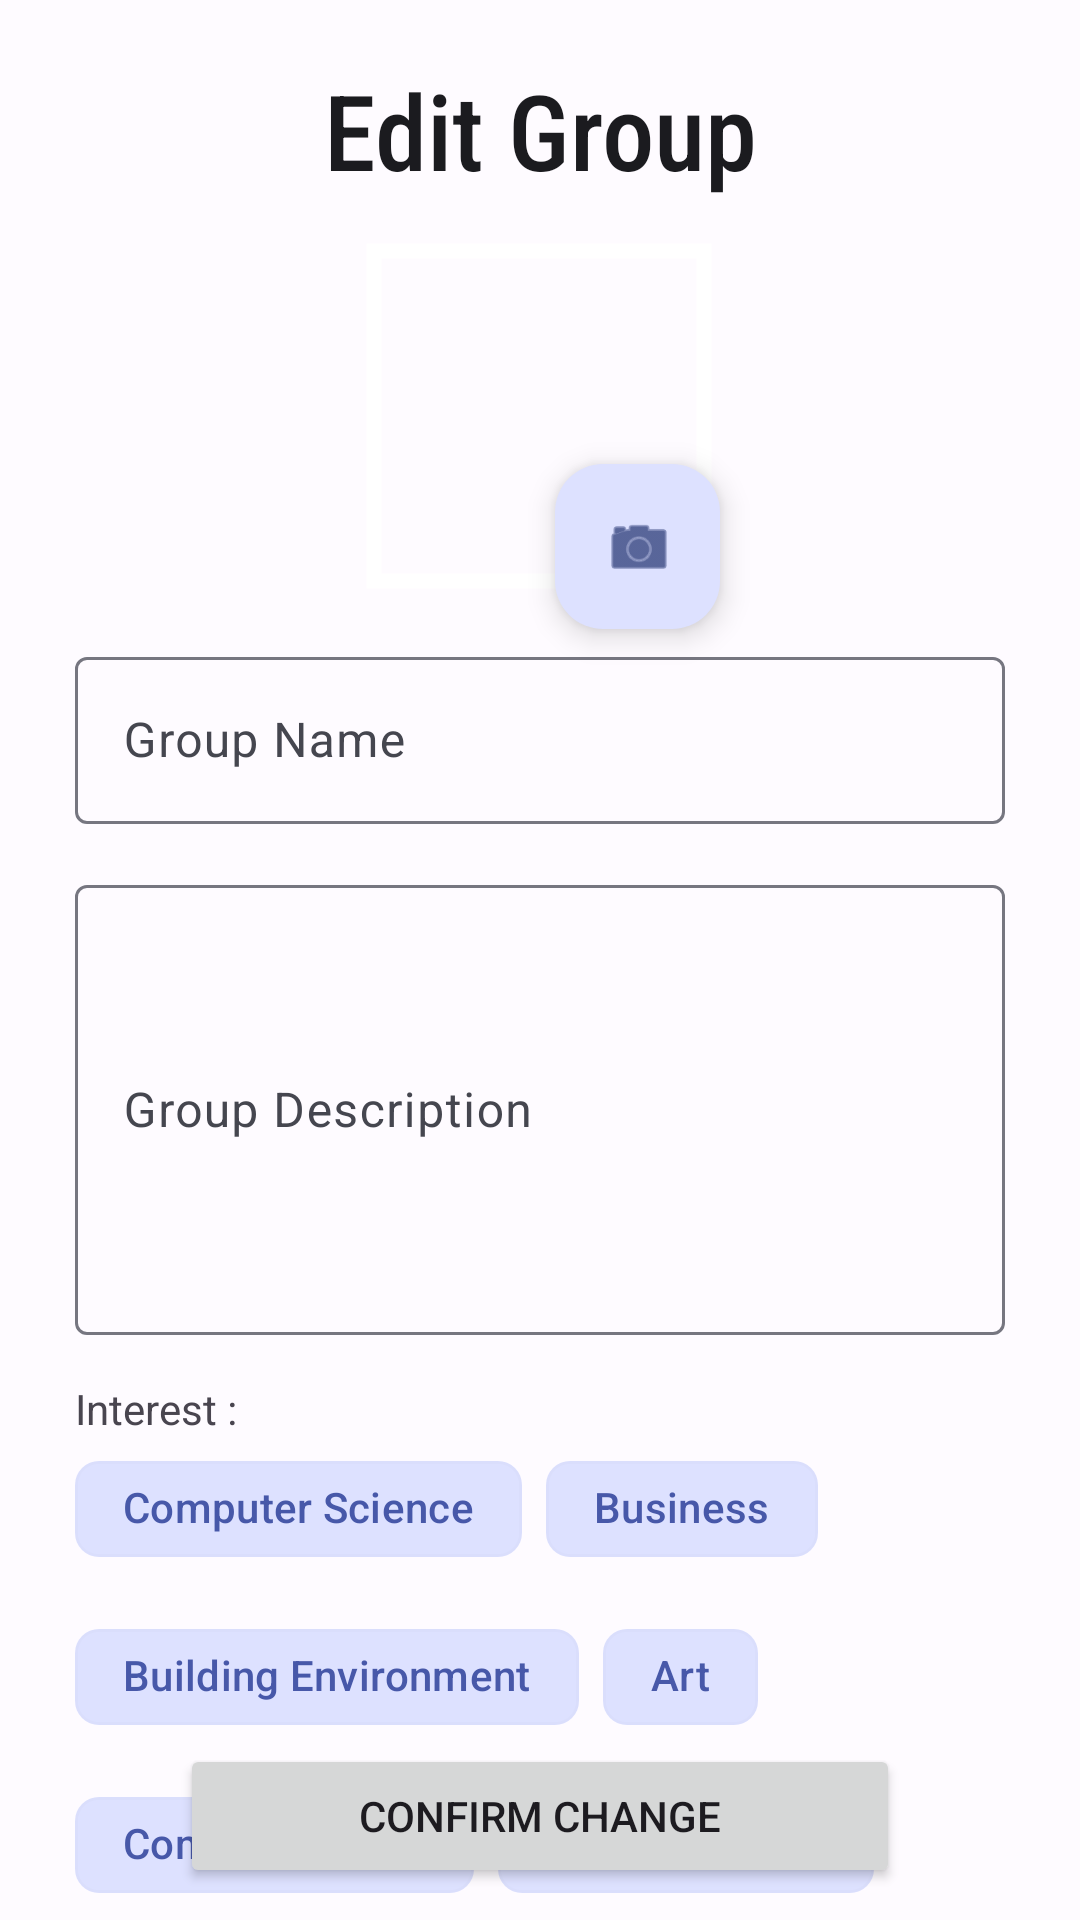

Point at icon controls on the screen. Image size 1080w x 1920h, points as (x=x, y=y).
camera: (x=639, y=546)
